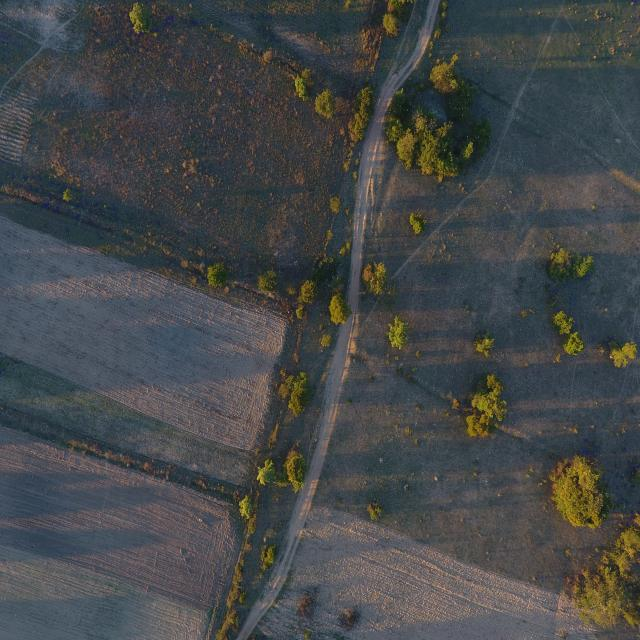boundaries: (30, 183, 290, 318), (21, 404, 228, 512)
